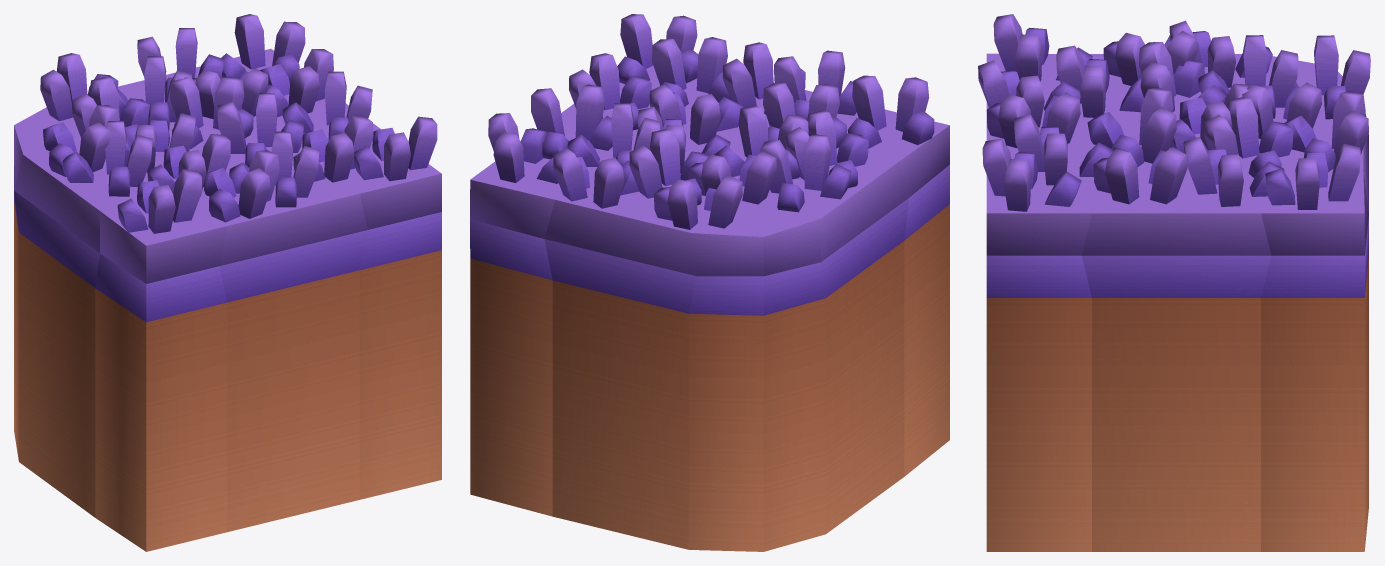
File: bloco de grama 1 canto com grama.glb
The picture shows the model from 3 angles, left to right: view 1: azimuth 30°, elevation 25°; view 2: azimuth 150°, elevation 25°; view 3: azimuth 270°, elevation 25°; orthographic projection. The views are drawn at different scales.
Visible parts, largest first — view 1: block-grass; view 2: block-grass; view 3: block-grass.
Boxes of the visible parts, x1,y1,x2,y2 form: block-grass: [14, 14, 441, 551]; block-grass: [470, 14, 949, 551]; block-grass: [978, 14, 1370, 551].
Size of the model in its own units: 1.05 by 1.15 by 1.05.
2 materials, 2 textured.
